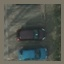car: (16, 28, 47, 41), (19, 48, 47, 61)
